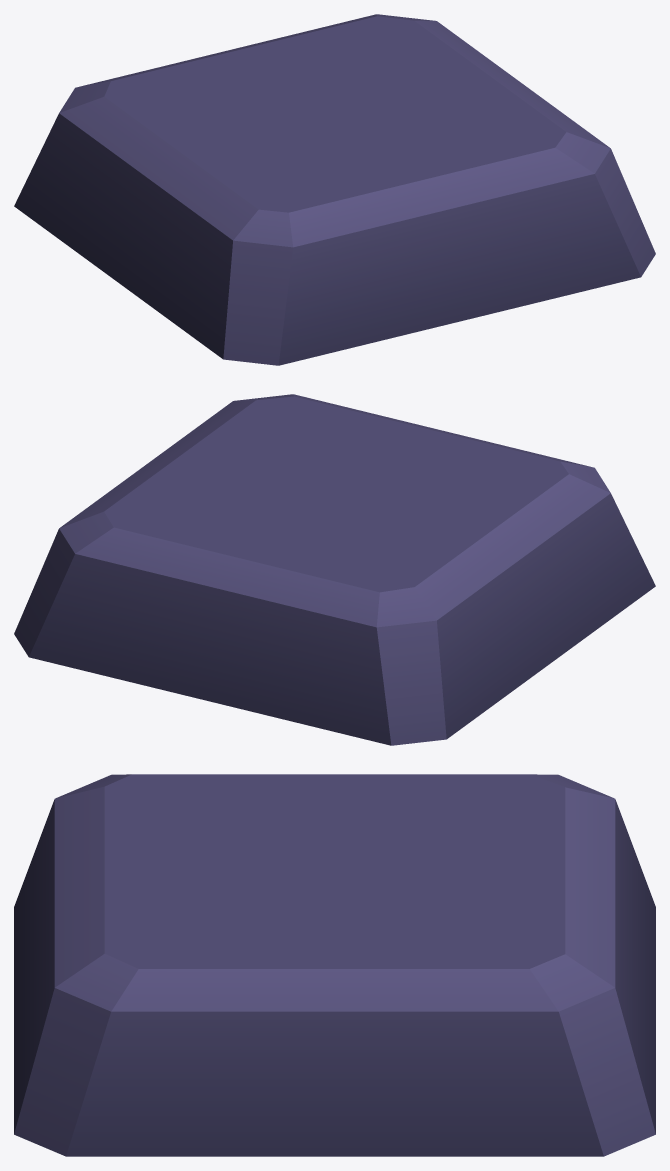
File: tile_1.glb
3 renders of one model, top to bottom at view 1: azimuth 30°, elevation 25°; view 2: azimuth 150°, elevation 25°; view 3: azimuth 270°, elevation 25°, orthographic. The views are drawn at different scales.
Visible parts, largest first — view 1: tile_1; view 2: tile_1; view 3: tile_1.
Boxes of the visible parts, x1=… form: tile_1: x1=14, y1=14, x2=655, y2=365; tile_1: x1=14, y1=394, x2=655, y2=745; tile_1: x1=14, y1=774, x2=655, y2=1156.
Size of the model in its own units: 2 by 0.513 by 2.
1 material, 1 textured.
